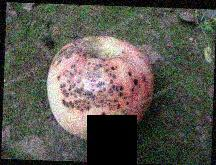rotten apple: (43, 36, 160, 146)
